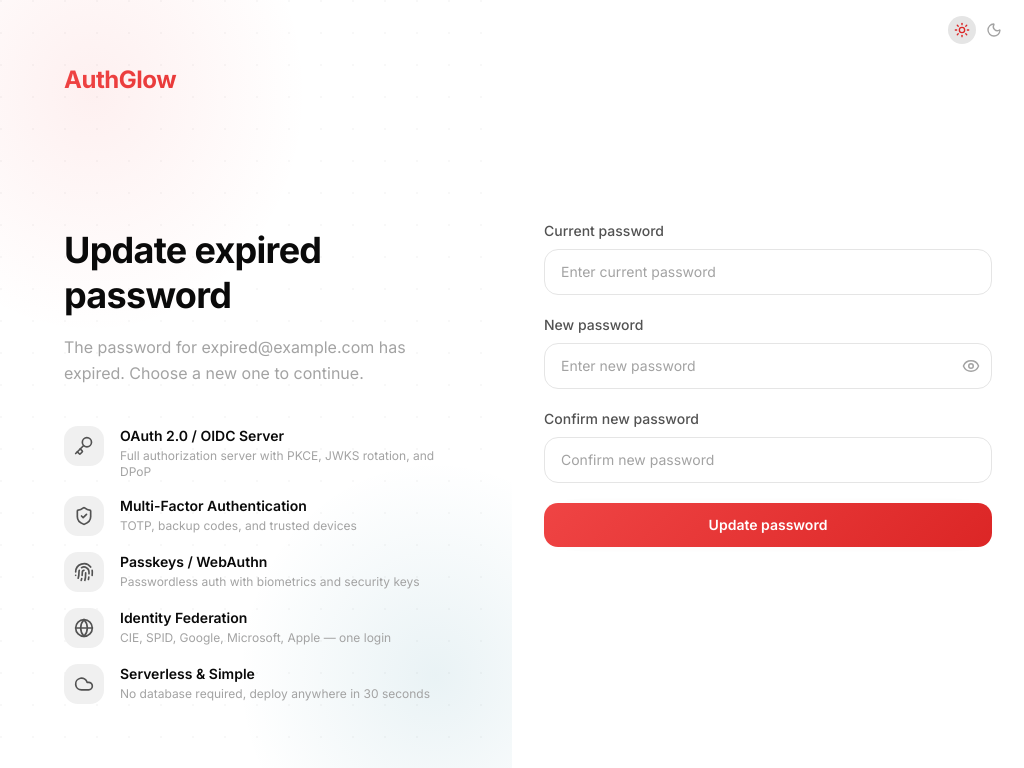
Test: ForceChangePasswordPage › shows an inline alert when the API rejects the change
The width and height of the screenshot is (1024, 768).
Type "OldP@ssw0rd!" into the password field with test id "force-change-current" at point(768, 272), box [544,249,992,295]
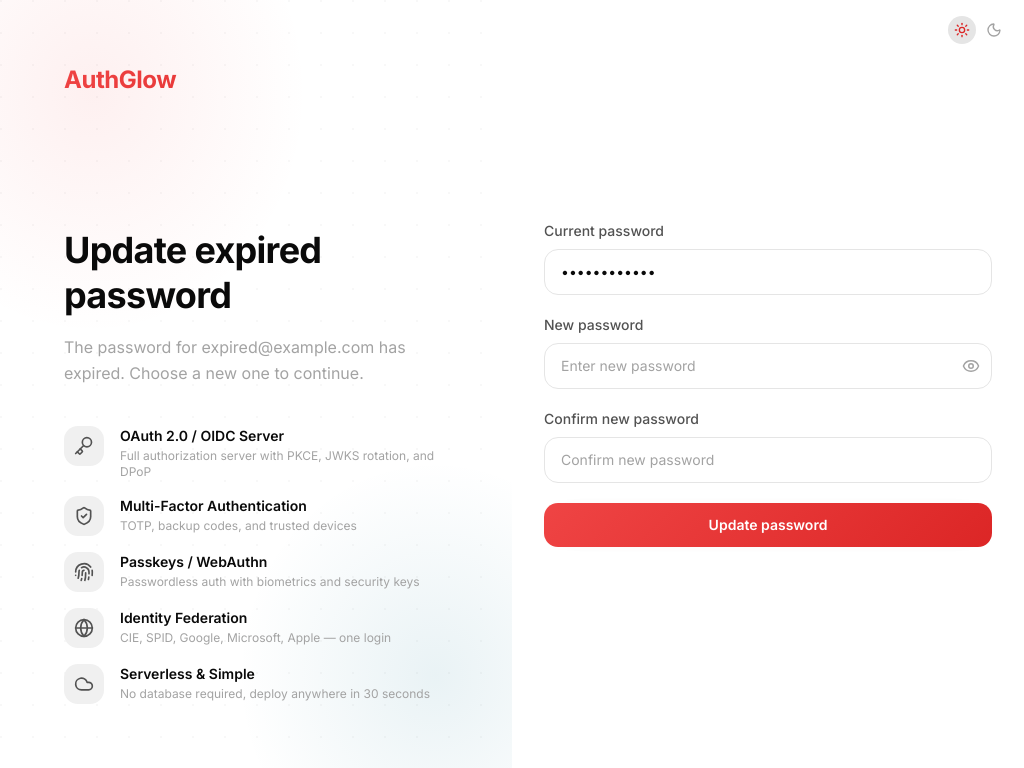
Type "NewP@ssw0rd!" into the password field with test id "force-change-new" at point(768, 366), box [544,343,992,389]
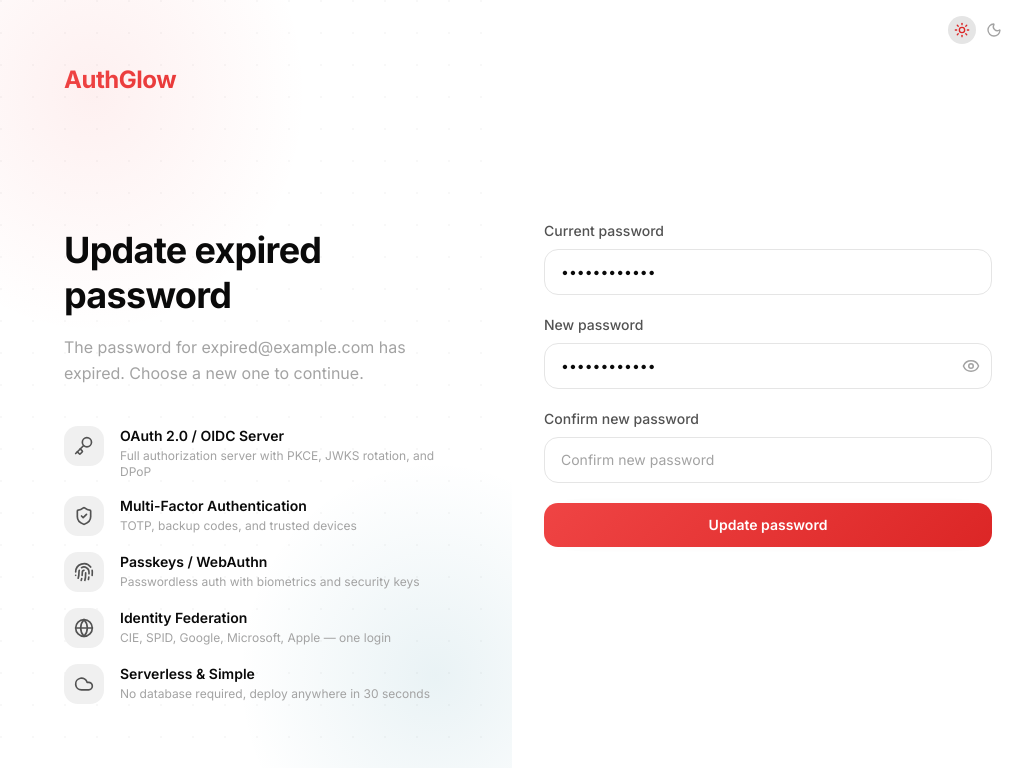
Type "NewP@ssw0rd!" into the password field with test id "force-change-confirm" at point(768, 460), box [544,437,992,483]
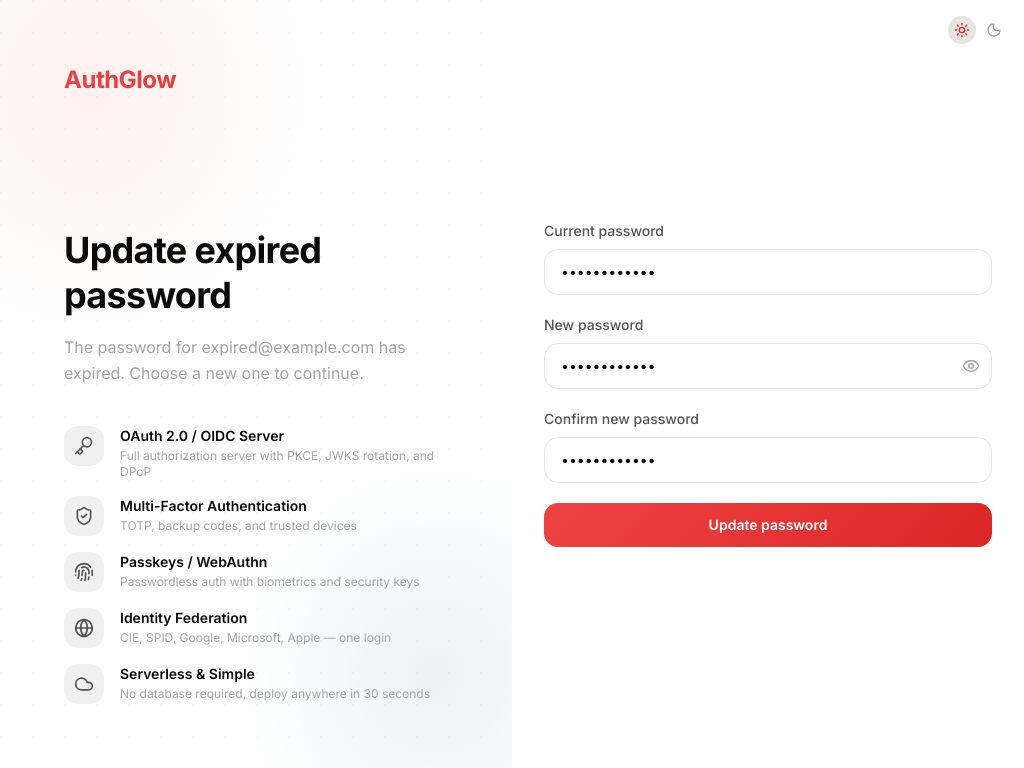
Click the button with test id "force-change-submit" at point(768, 525), box [544,503,992,547]
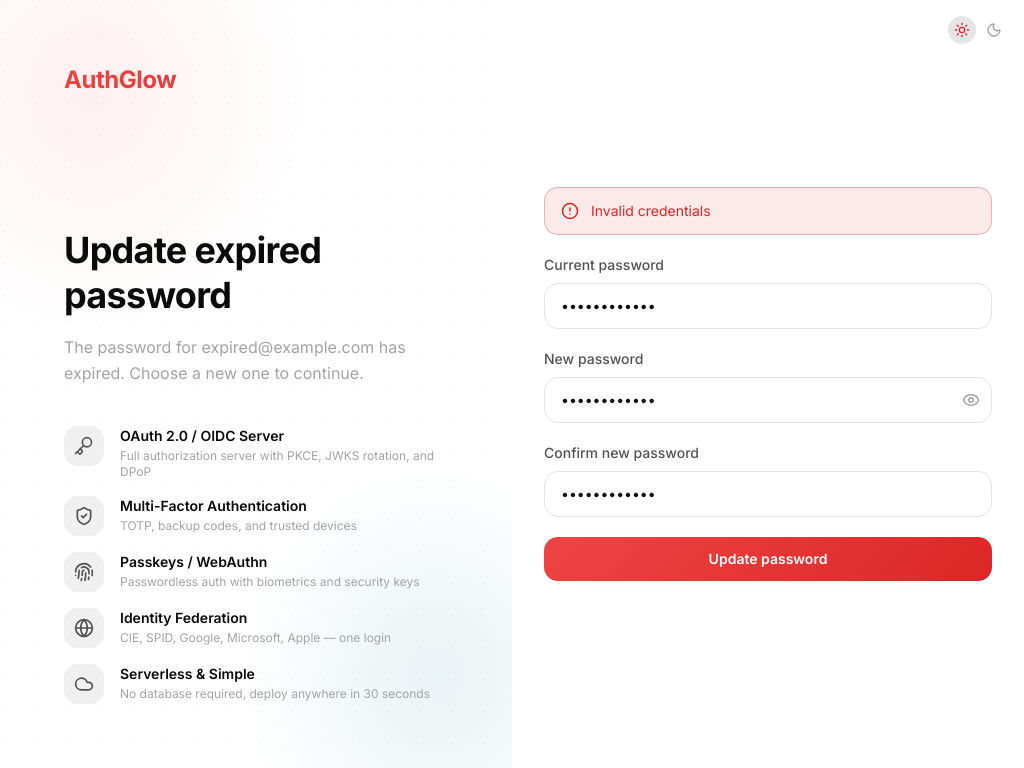
Now the message reads "Invalid credentials", box [591,202,711,219]
